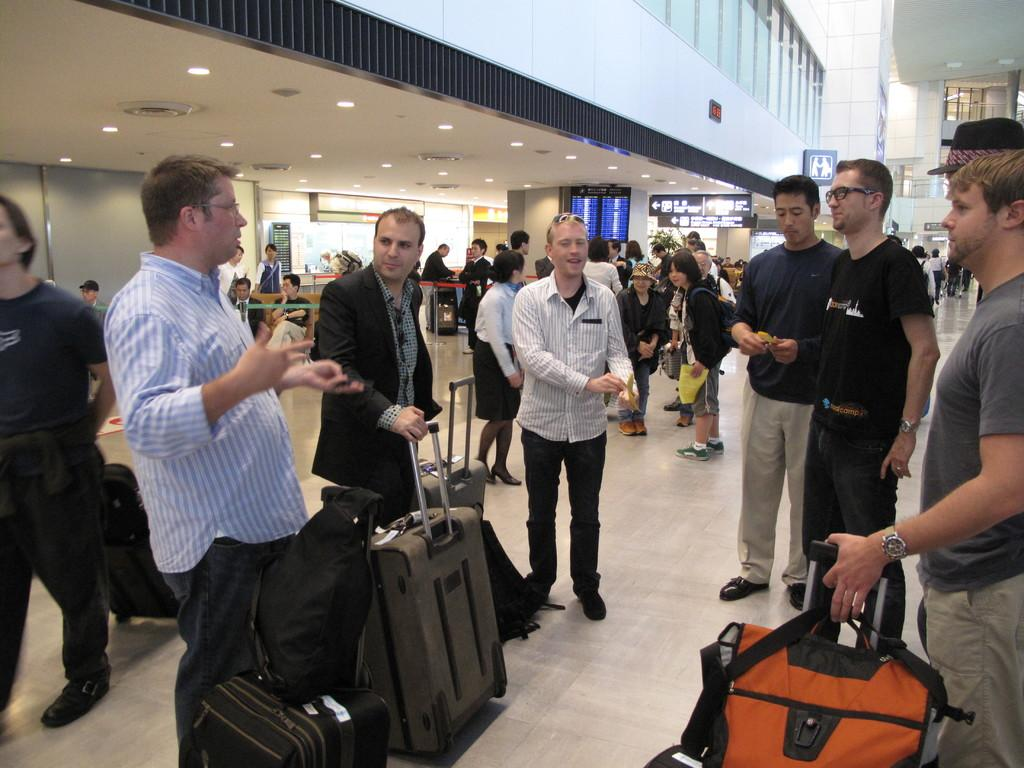Luggage-and-bags: (354, 415, 506, 764), (195, 490, 383, 767), (700, 579, 938, 760), (251, 492, 381, 709), (88, 438, 186, 631), (410, 378, 486, 520), (474, 498, 547, 641), (689, 286, 743, 356), (655, 342, 680, 387)
